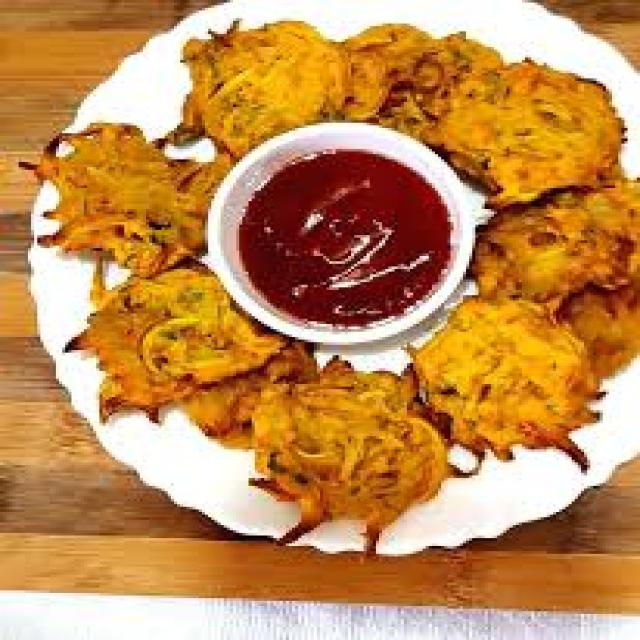BAJI: (224, 370, 443, 512), (416, 297, 593, 451), (426, 64, 636, 183), (61, 276, 257, 403), (174, 31, 346, 151), (503, 187, 632, 343), (19, 141, 180, 261), (356, 33, 444, 119)
